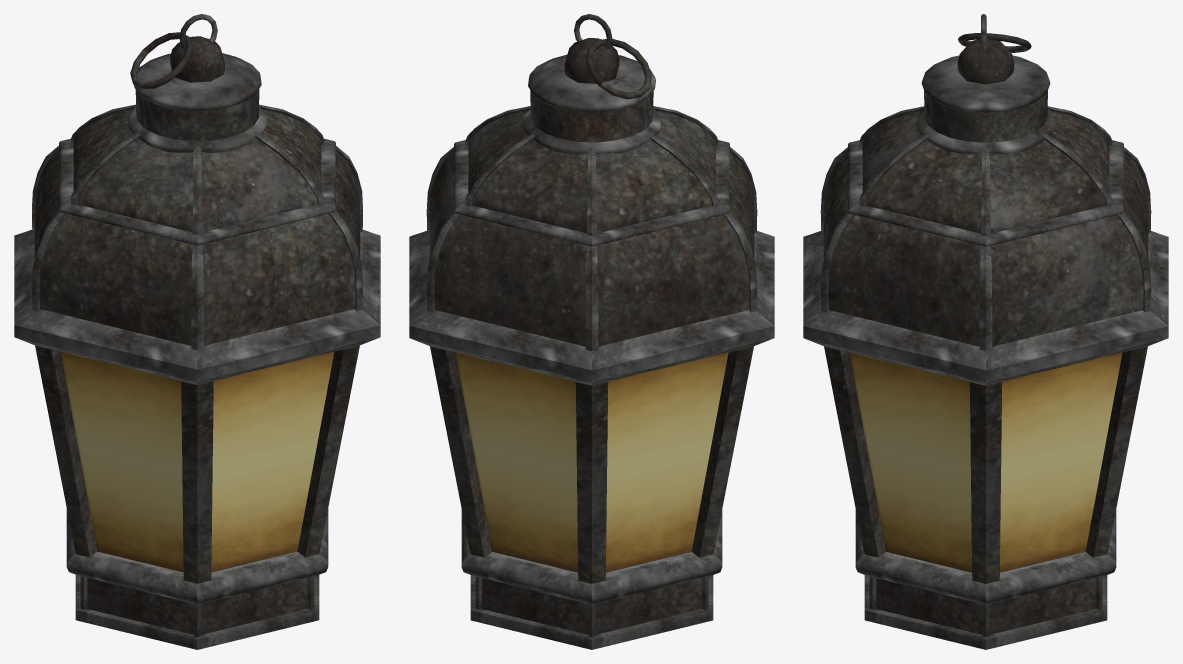
Rendered from Lantern02.fbx.
3 views of the same model, side by side, from view 1: azimuth 30°, elevation 25°; view 2: azimuth 150°, elevation 25°; view 3: azimuth 270°, elevation 25° (orthographic).
Parts seen in each view (by area): view 1: Lantern02; view 2: Lantern02; view 3: Lantern02.
Boxes of the visible parts, x1,y1,x2,y2 form: Lantern02: (14, 14, 380, 649); Lantern02: (409, 14, 774, 649); Lantern02: (803, 14, 1168, 649).
Size of the model in its own units: 26.33 by 39.59 by 22.8.
